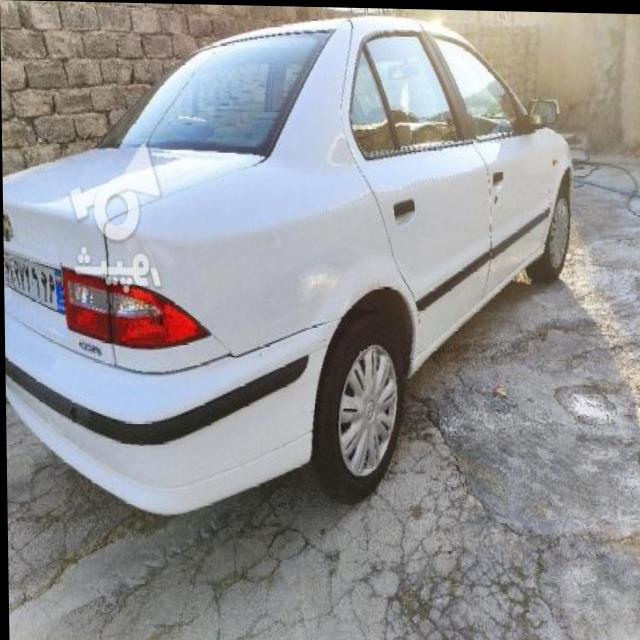licence: (4, 254, 68, 312)
